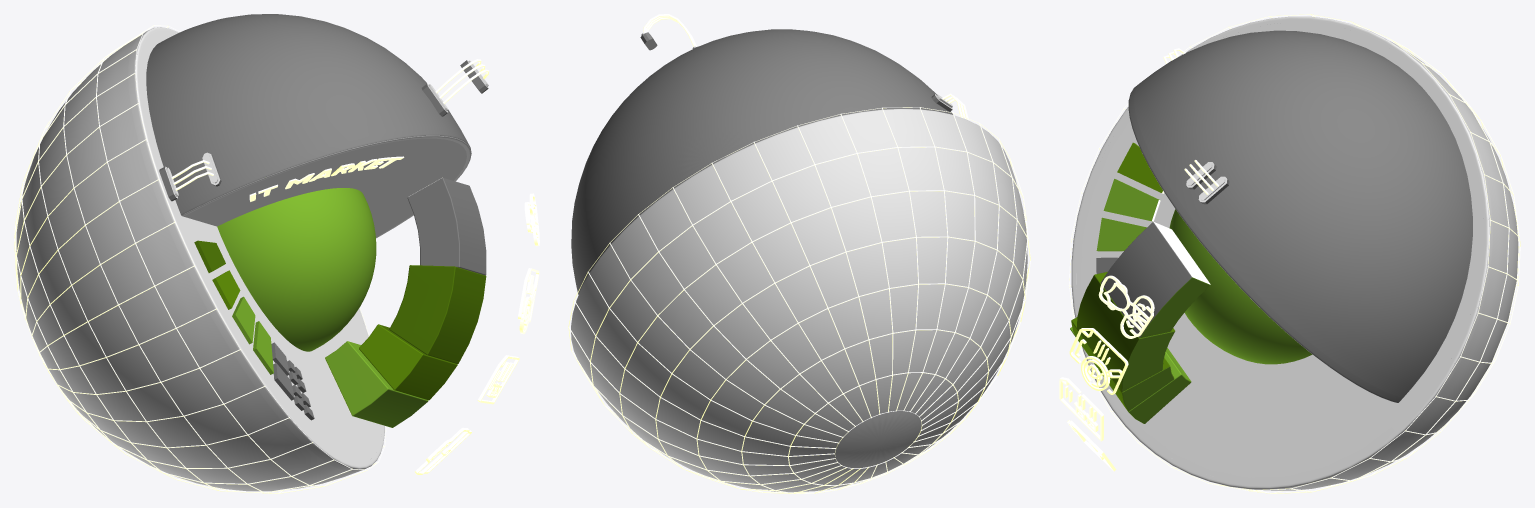
File: it-market.gltf
3 renders of one model, left to right at view 1: azimuth 30°, elevation 25°; view 2: azimuth 150°, elevation 25°; view 3: azimuth 270°, elevation 25°, orthographic. The views are drawn at different scales.
Visible parts, largest first — view 1: Sphere.021, Sphere.016, Sphere.023, Sphere.015, Sphere.024, Sphere.026, Curve.008, Curve.002, Curve.005, Curve.007, ARRAY_CIRCLE_mesh.002; view 2: Sphere.021, Sphere.016, Sphere.024; view 3: Sphere.016, Sphere.021, Sphere.023, Sphere.015, Sphere.024, Sphere.026, Curve.005, Curve.006, Curve.002.
Part boxes in pixels (left/top/right/bottom): Sphere.021: left=16, top=27, right=384, bottom=491; Sphere.016: left=146, top=14, right=471, bottom=238; Sphere.023: left=325, top=177, right=486, bottom=427; Sphere.015: left=217, top=188, right=376, bottom=351; Sphere.024: left=14, top=25, right=386, bottom=493; Sphere.026: left=194, top=240, right=314, bottom=420; Curve.008: left=249, top=156, right=404, bottom=201; Curve.002: left=477, top=355, right=519, bottom=404; Curve.005: left=518, top=268, right=539, bottom=334; Curve.007: left=414, top=427, right=471, bottom=474; ARRAY_CIRCLE_mesh.002: left=435, top=59, right=489, bottom=103; Sphere.021: left=571, top=109, right=1027, bottom=492; Sphere.016: left=571, top=29, right=952, bottom=294; Sphere.024: left=568, top=107, right=1030, bottom=493; Sphere.016: left=1128, top=30, right=1472, bottom=402; Sphere.021: left=1071, top=16, right=1518, bottom=490; Sphere.023: left=1070, top=222, right=1210, bottom=423; Sphere.015: left=1169, top=209, right=1312, bottom=364; Sphere.024: left=1068, top=14, right=1520, bottom=493; Sphere.026: left=1096, top=142, right=1164, bottom=273; Curve.005: left=1069, top=328, right=1128, bottom=394; Curve.006: left=1098, top=275, right=1154, bottom=338; Curve.002: left=1059, top=377, right=1103, bottom=441.
Bounding box in the file's own units: 0.9044 × 0.8844 × 0.8704.
